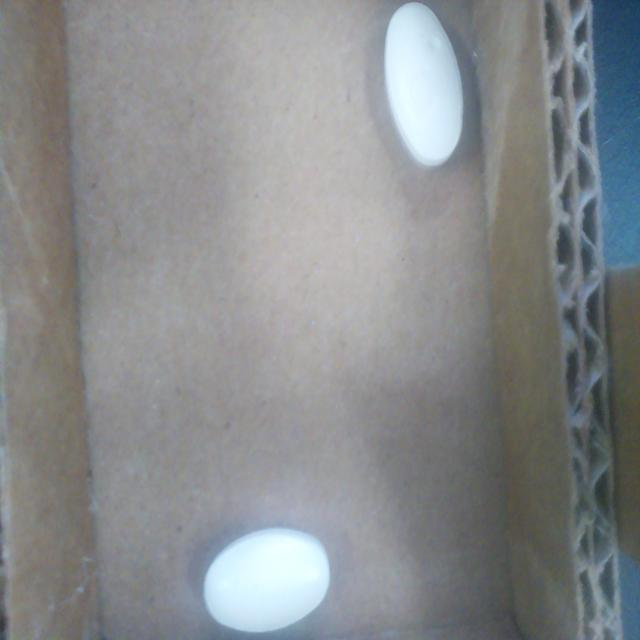pill: (203, 528, 330, 633), (384, 2, 463, 167)
